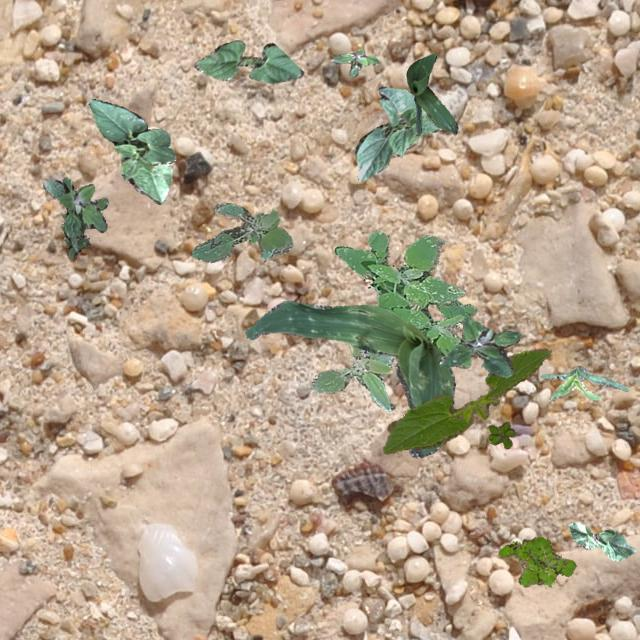crop: (245, 300, 454, 458), (382, 346, 550, 454), (88, 98, 174, 204), (354, 86, 441, 180), (194, 40, 302, 82), (406, 52, 456, 134), (540, 364, 628, 398), (568, 522, 636, 560)
weed: (332, 228, 470, 368), (190, 202, 292, 262), (310, 344, 392, 411), (42, 176, 108, 256), (438, 316, 520, 376), (498, 536, 576, 586), (330, 48, 378, 76), (436, 298, 476, 318), (488, 420, 514, 448)
